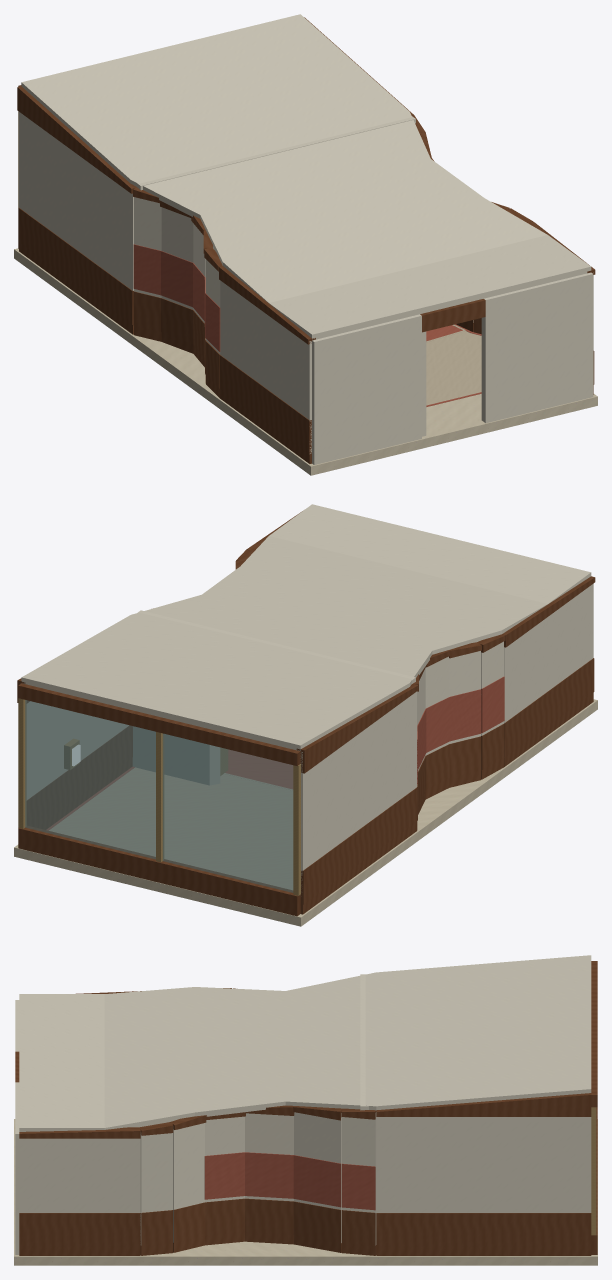
File: shell.glb
3 renders of one model, top to bottom at view 1: azimuth 30°, elevation 25°; view 2: azimuth 150°, elevation 25°; view 3: azimuth 270°, elevation 25°, orthographic.
Visible parts, largest first — view 1: SUI_Runtime_ivory_enamel, SUI_Runtime_warm_walnut, SUI_Runtime_warm_stone, SUI_Runtime_clay_weave, SUI_Runtime_oatmeal_weave; view 2: SUI_Runtime_ivory_enamel, SUI_Runtime_warm_walnut, SUI_Runtime_SuiteHospitalityGlass, SUI_Runtime_oatmeal_weave, SUI_Runtime_warm_stone, SUI_Runtime_clay_weave, SUI_Runtime_champagne_metal; view 3: SUI_Runtime_ivory_enamel, SUI_Runtime_warm_walnut, SUI_Runtime_warm_stone, SUI_Runtime_clay_weave, SUI_Runtime_champagne_metal.
Boxes of the visible parts, left/top/right/bottom form: SUI_Runtime_ivory_enamel: left=19, top=14, right=593, bottom=464; SUI_Runtime_warm_walnut: left=17, top=17, right=595, bottom=463; SUI_Runtime_warm_stone: left=14, top=248, right=597, bottom=475; SUI_Runtime_clay_weave: left=133, top=244, right=481, bottom=406; SUI_Runtime_oatmeal_weave: left=213, top=248, right=481, bottom=405; SUI_Runtime_ivory_enamel: left=21, top=504, right=593, bottom=885; SUI_Runtime_warm_walnut: left=17, top=511, right=595, bottom=916; SUI_Runtime_SuiteHospitalityGlass: left=25, top=700, right=293, bottom=892; SUI_Runtime_oatmeal_weave: left=49, top=767, right=292, bottom=889; SUI_Runtime_warm_stone: left=14, top=699, right=597, bottom=926; SUI_Runtime_clay_weave: left=46, top=676, right=504, bottom=830; SUI_Runtime_champagne_metal: left=18, top=698, right=300, bottom=895; SUI_Runtime_ivory_enamel: left=15, top=955, right=591, bottom=1254; SUI_Runtime_warm_walnut: left=15, top=961, right=597, bottom=1255; SUI_Runtime_warm_stone: left=14, top=1119, right=597, bottom=1265; SUI_Runtime_clay_weave: left=204, top=1152, right=375, bottom=1210; SUI_Runtime_champagne_metal: left=591, top=1107, right=596, bottom=1235.
Size of the model in its own units: 7.2 by 4.26 by 12.9.
Materials: 8 (6 with a texture image).
